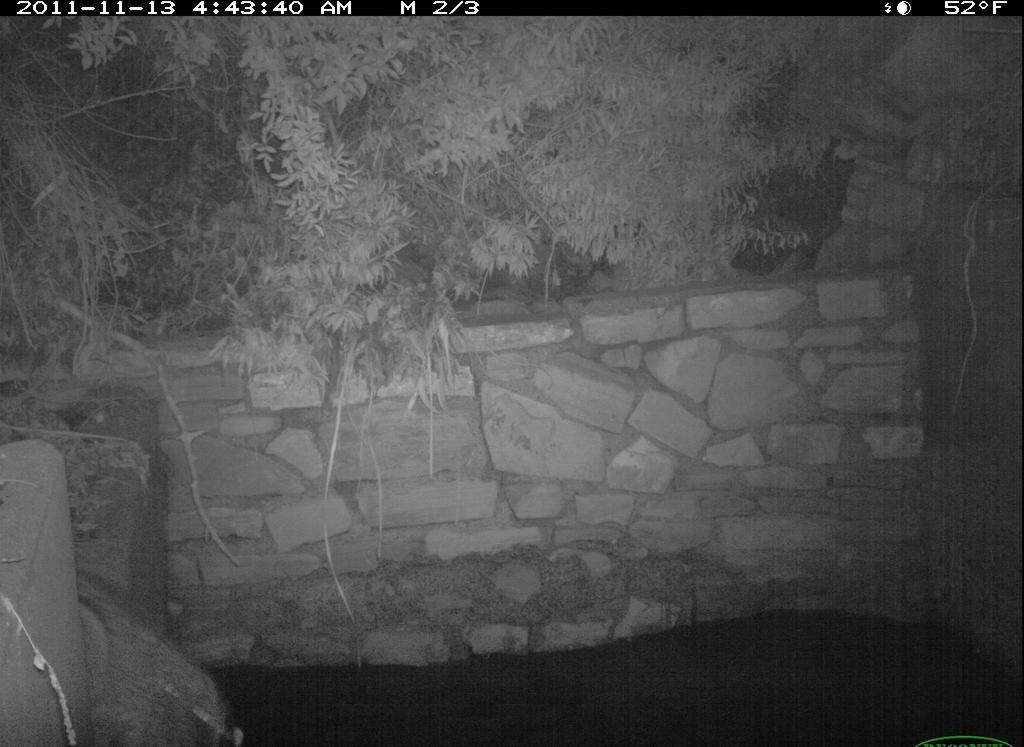raccoon: (65, 530, 249, 747)
